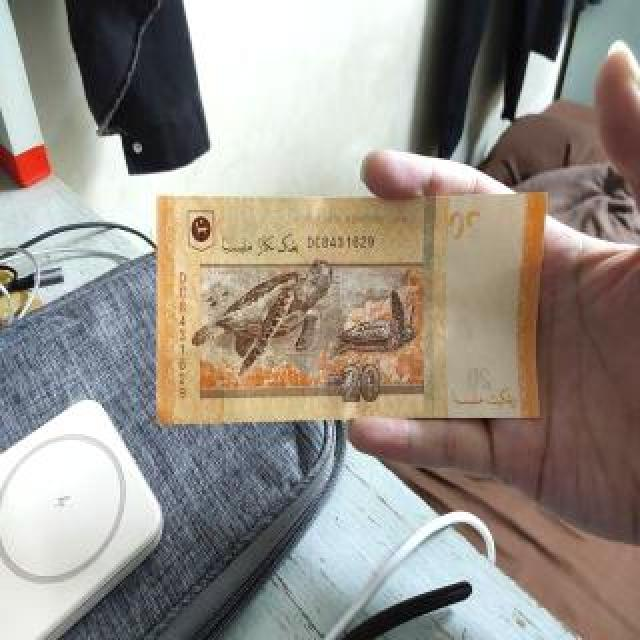20 Ringgit: (158, 196, 554, 420)
